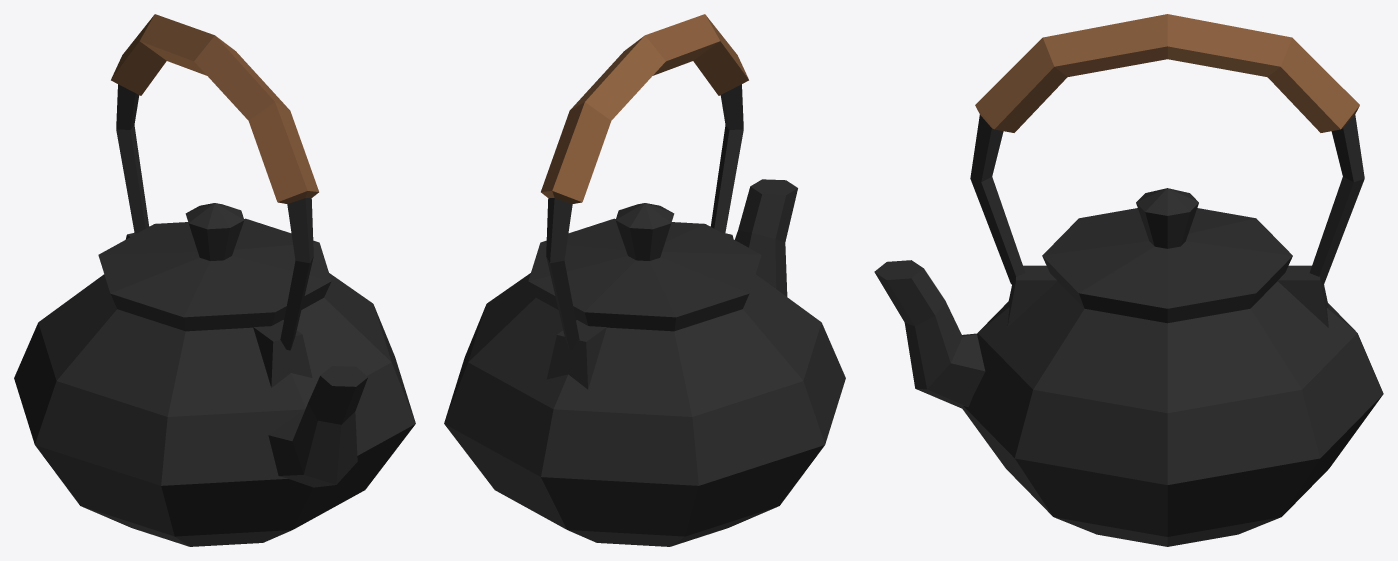
Rendered from teapot.glb.
The picture shows the model from 3 angles, left to right: view 1: azimuth 30°, elevation 25°; view 2: azimuth 150°, elevation 25°; view 3: azimuth 270°, elevation 25°; orthographic projection. The views are drawn at different scales.
Visible parts, largest first — view 1: teapot; view 2: teapot; view 3: teapot.
Boxes of the visible parts, x1,y1,x2,y2 form: teapot: (14,14,415,546); teapot: (444,14,845,546); teapot: (874,14,1383,546).
Size of the model in its own units: 0.2981 by 0.3781 by 0.3514.
1 material, 1 textured.
